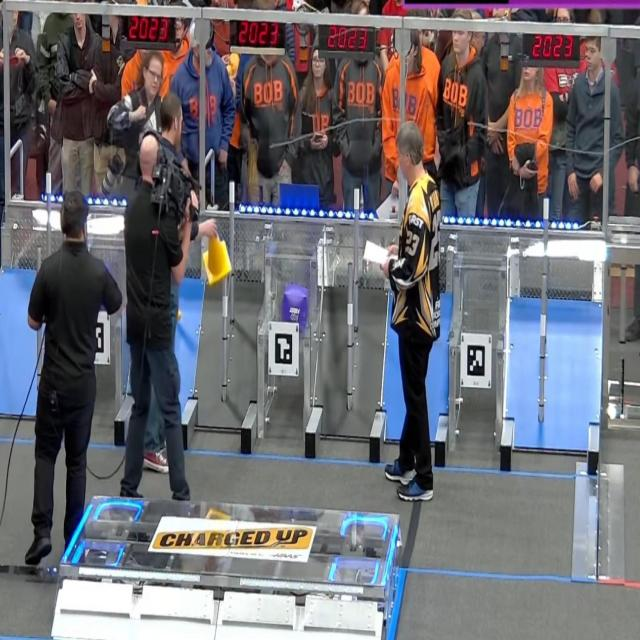frc_cone: (203, 230, 231, 286), (175, 300, 184, 322)
frc_cube: (283, 284, 307, 325)
